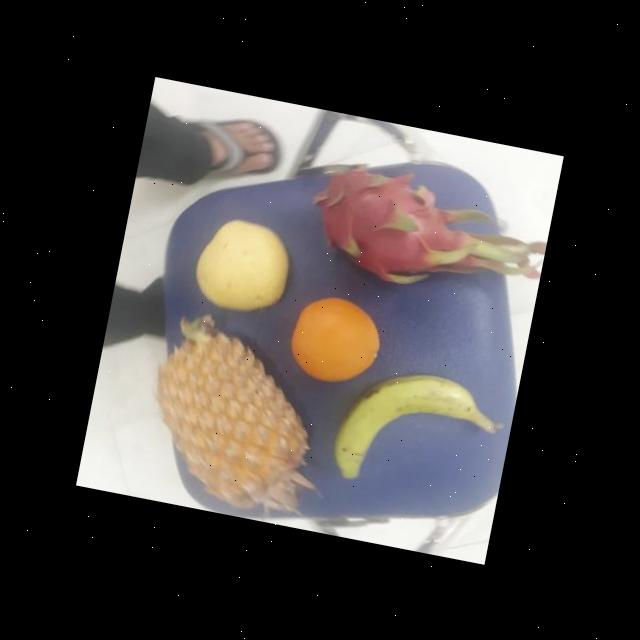banana: (328, 361, 496, 506)
orange: (282, 289, 388, 390)
pineapple: (187, 212, 302, 322)
pitaya: (302, 144, 502, 308)
